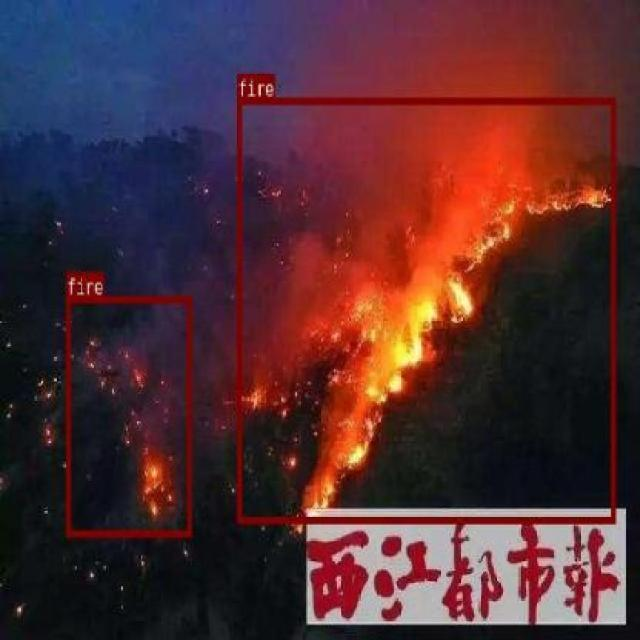fire: (237, 96, 614, 522), (64, 294, 190, 535)
